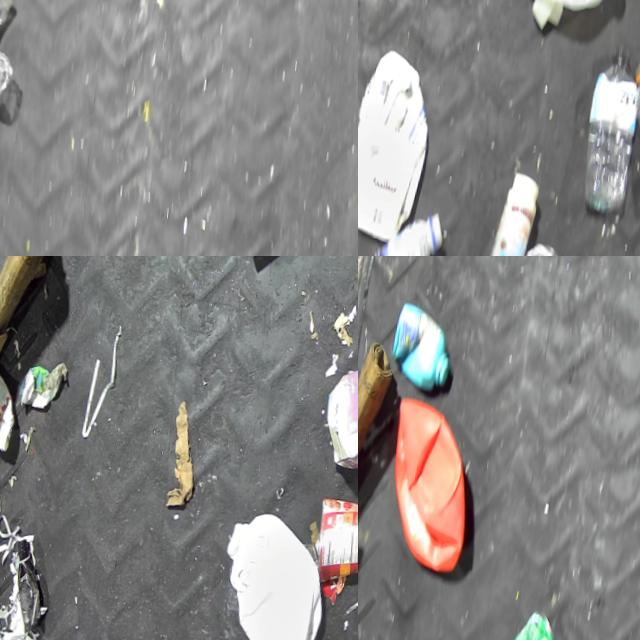can: (314, 495, 358, 587), (500, 605, 562, 640), (0, 366, 19, 452)
milk_jug: (358, 45, 436, 246), (214, 507, 331, 640)
non_white_jug: (382, 391, 478, 579), (322, 333, 358, 482)
plastic_bottle: (578, 43, 640, 218), (621, 53, 640, 212)
